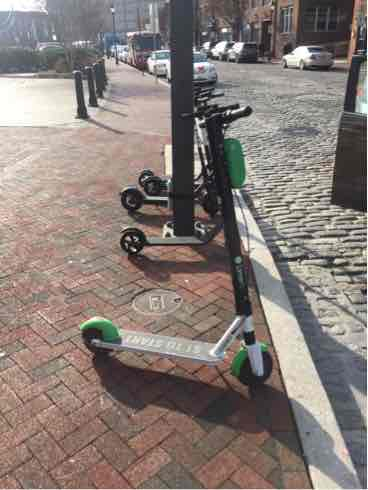scooter: (63, 94, 280, 399)
